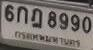letters: (31, 8, 42, 28), (16, 6, 28, 24), (4, 4, 14, 22), (59, 13, 69, 30), (48, 11, 57, 28), (71, 14, 80, 31), (82, 16, 91, 33)
province: (14, 32, 80, 47)
